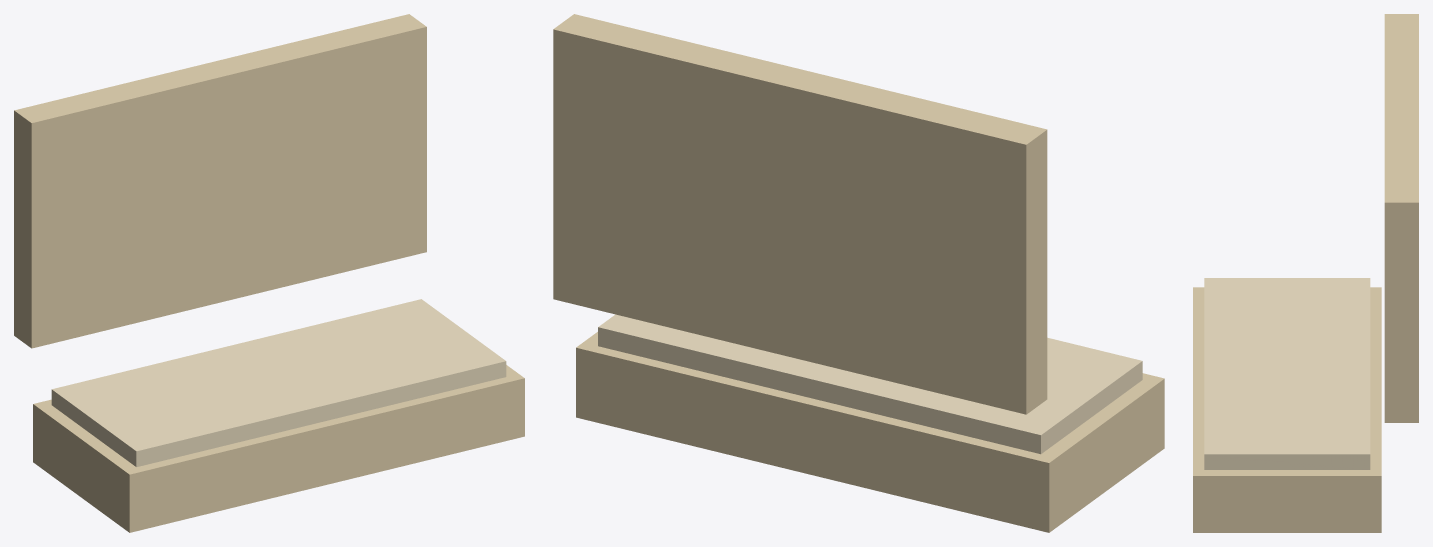
The model's file is futonAnimated.glb.
3 renders of one model, left to right at view 1: azimuth 30°, elevation 25°; view 2: azimuth 150°, elevation 25°; view 3: azimuth 270°, elevation 25°, orthographic. The views are drawn at different scales.
Visible parts, largest first — view 1: Backrest.001, Cushion, Base; view 2: Backrest.001, Base, Cushion; view 3: Cushion, Base, Backrest.001.
Boxes of the visible parts, left/top/right/bottom form: Backrest.001: left=14, top=14, right=426, bottom=348; Cushion: left=51, top=299, right=506, bottom=467; Base: left=33, top=365, right=524, bottom=532; Backrest.001: left=553, top=14, right=1047, bottom=414; Base: left=576, top=332, right=1164, bottom=532; Cushion: left=598, top=314, right=1142, bottom=454; Cushion: left=1204, top=278, right=1370, bottom=469; Base: left=1193, top=287, right=1381, bottom=532; Backrest.001: left=1384, top=14, right=1418, bottom=422.
Bounding box in the file's own units: 1.56 × 1.28 × 0.79.
